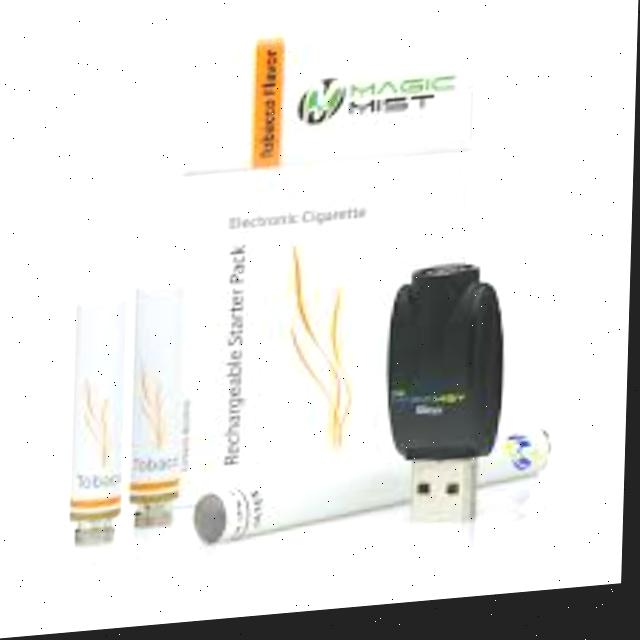vape: (198, 437, 557, 552)
